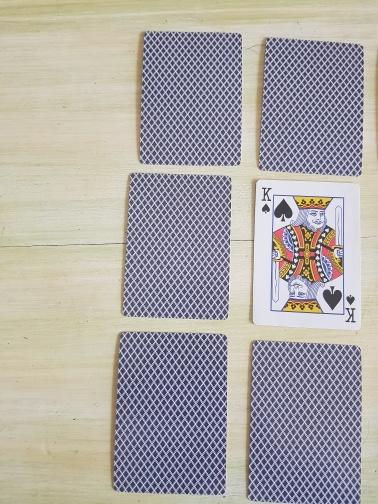king: (252, 179, 363, 331)
